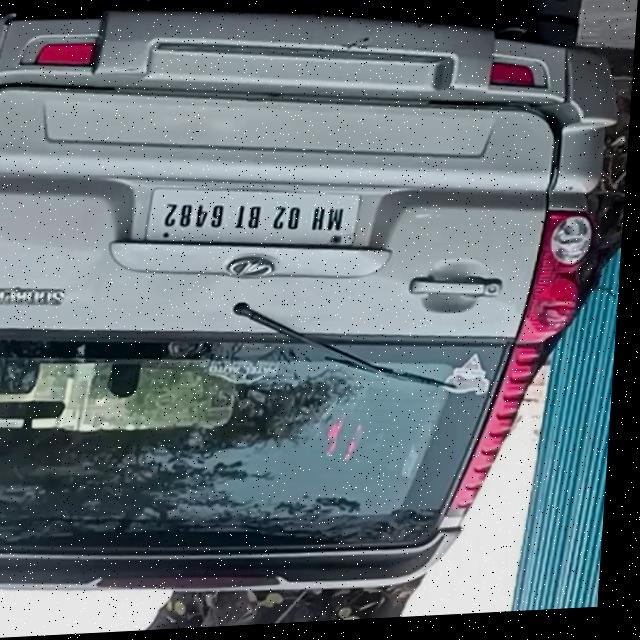plate: (147, 181, 367, 260)
